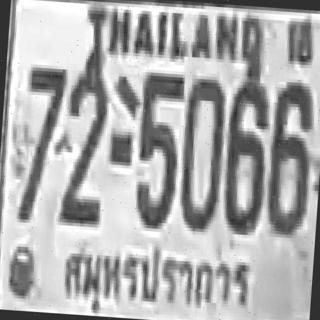N00: (176, 74, 224, 230)
N02: (57, 65, 109, 223)
N05: (133, 68, 183, 226)
N06: (264, 78, 314, 233), (221, 76, 270, 231)
N07: (16, 64, 67, 222)
P57: (56, 238, 253, 320)
